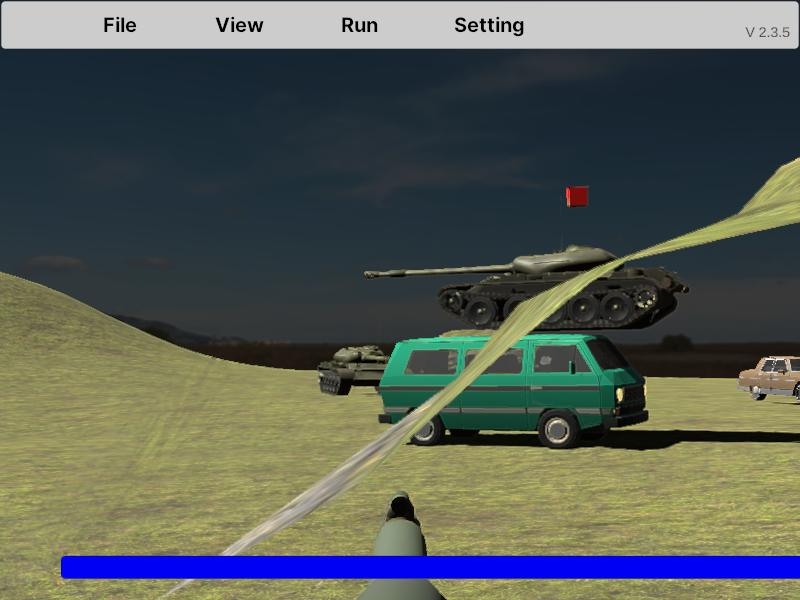Tank: (367, 247, 682, 328), (317, 344, 398, 396)
car: (376, 335, 650, 449), (737, 355, 800, 402)
